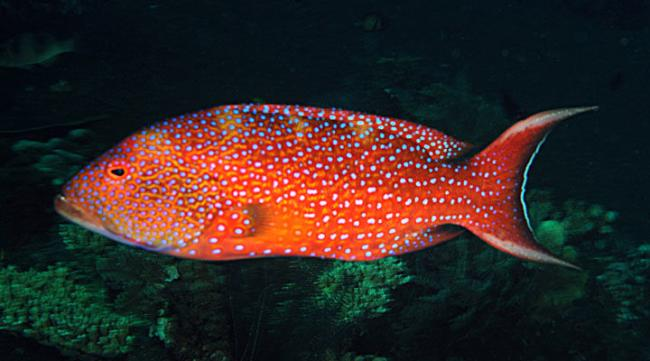fish: (54, 103, 599, 270)
